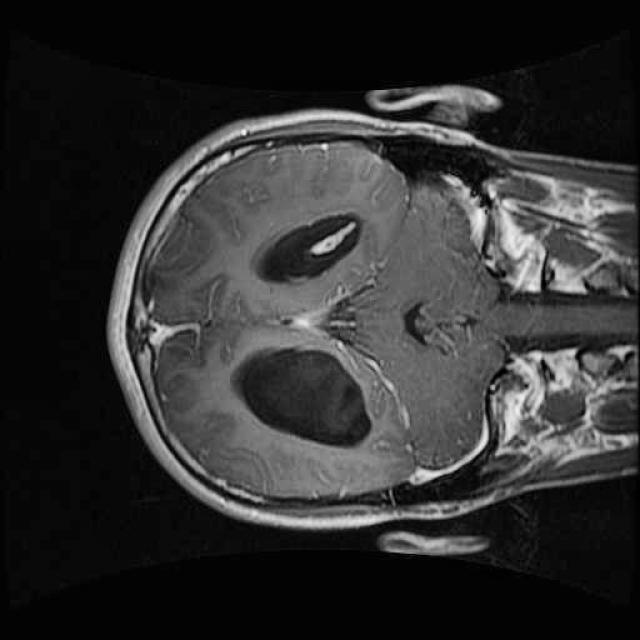Non-Tumor: (218, 334, 406, 468)
